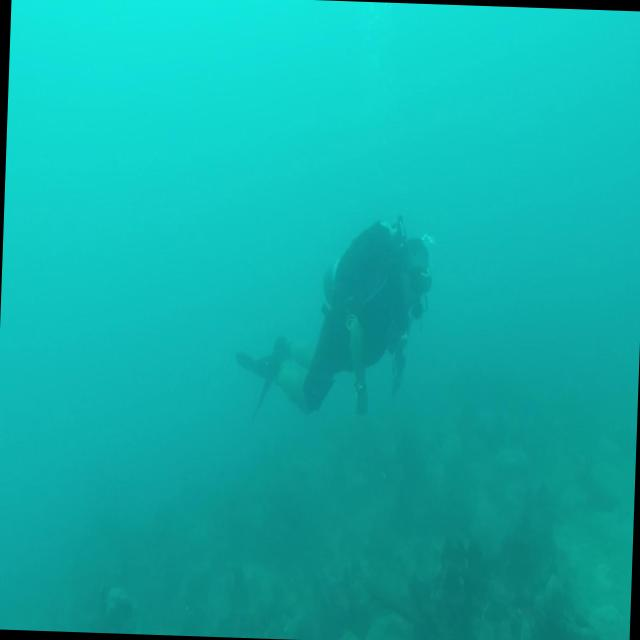human: (233, 209, 434, 424)
